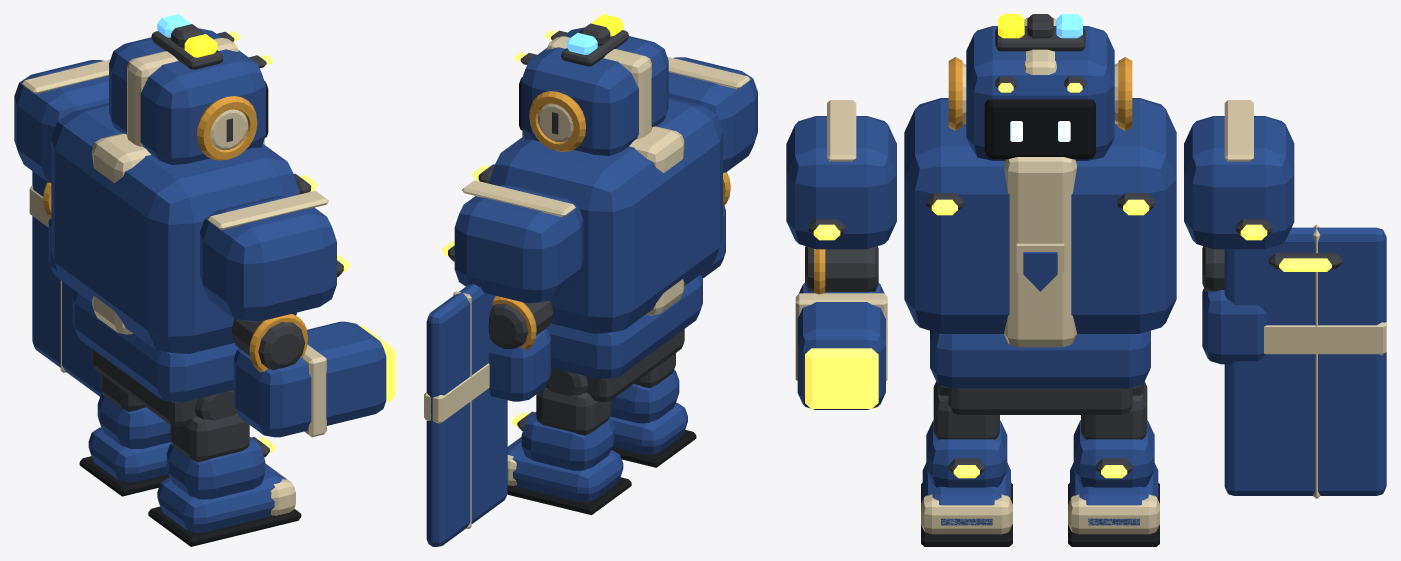
The model's file is police-inspector.glb.
3 views of the same model, side by side, from view 1: azimuth 30°, elevation 25°; view 2: azimuth 150°, elevation 25°; view 3: azimuth 270°, elevation 25° (orthographic). The views are drawn at different scales.
Parts seen in each view (by area): view 1: torso body, arm_r body, head body, leg_r body, arm_l body, leg_l body, lightbar amber; view 2: torso body, arm_l body, head body, leg_l body, arm_r body, leg_r body, lightbar sky, lightbar amber; view 3: torso body, arm_l body, arm_r body, head body, leg_l body, leg_r body.
Part boxes in pixels (x1=…): torso body: x1=51, y1=103, x2=317, y2=426; arm_r body: x1=200, y1=190, x2=395, y2=437; head body: x1=109, y1=24, x2=273, y2=164; leg_r body: x1=148, y1=390, x2=301, y2=546; arm_l body: x1=14, y1=59, x2=110, y2=396; leg_l body: x1=79, y1=374, x2=171, y2=496; lightbar amber: x1=184, y1=34, x2=217, y2=57; torso body: x1=472, y1=97, x2=722, y2=402; arm_l body: x1=424, y1=180, x2=583, y2=546; head body: x1=514, y1=23, x2=668, y2=155; leg_l body: x1=507, y1=367, x2=631, y2=514; arm_r body: x1=667, y1=56, x2=757, y2=278; leg_r body: x1=609, y1=353, x2=696, y2=467; lightbar sky: x1=566, y1=33, x2=597, y2=54; lightbar amber: x1=592, y1=14, x2=623, y2=36; torso body: x1=904, y1=98, x2=1176, y2=414; arm_l body: x1=1184, y1=100, x2=1386, y2=498; arm_r body: x1=786, y1=100, x2=896, y2=409; head body: x1=948, y1=14, x2=1132, y2=160; leg_l body: x1=1068, y1=382, x2=1159, y2=546; leg_r body: x1=921, y1=381, x2=1012, y2=546.
Bounding box in the file's own units: 0.63 × 1.5 × 1.63.
